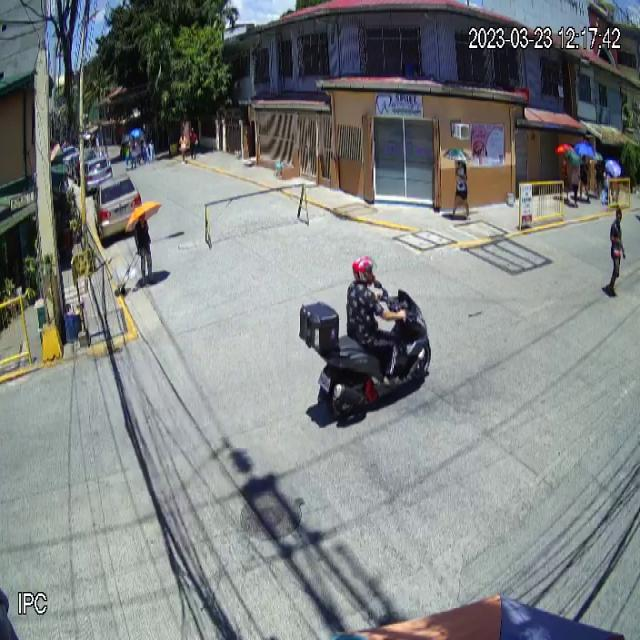Car: (93, 173, 143, 242)
Motorcycle: (299, 278, 431, 421)
